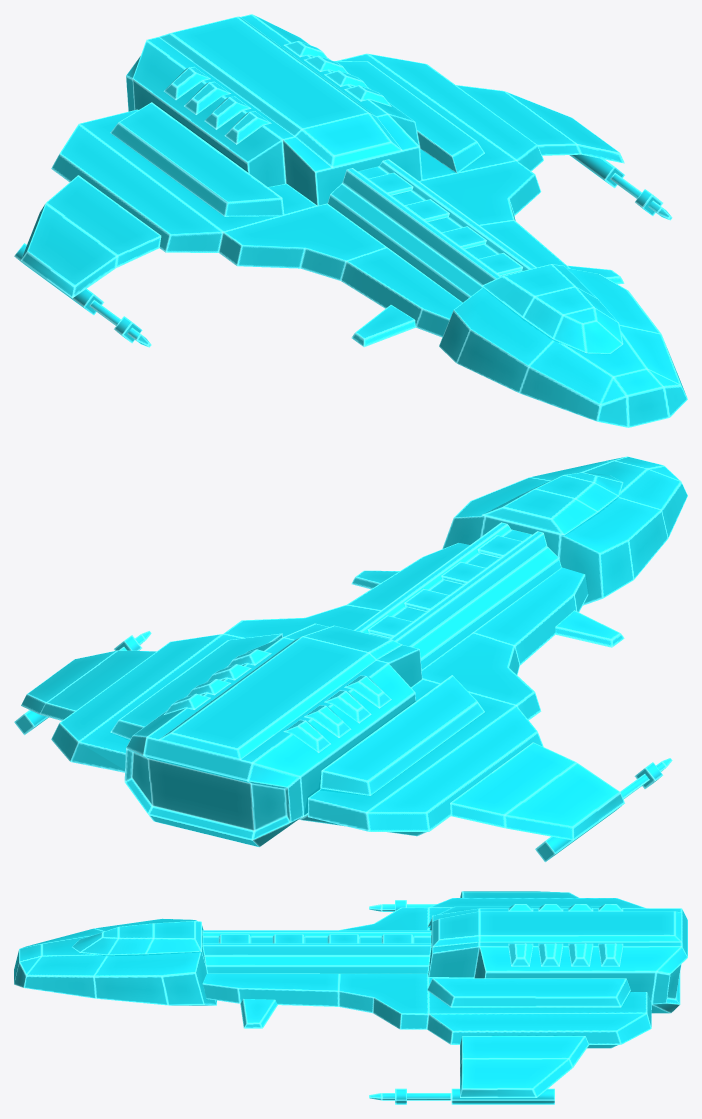
The model's file is ally_battleship.FBX.
3 views of the same model, one above another, from view 1: azimuth 30°, elevation 25°; view 2: azimuth 150°, elevation 25°; view 3: azimuth 270°, elevation 25° (orthographic). The views are drawn at different scales.
Visible parts, largest first — view 1: Battleship_player; view 2: Battleship_player; view 3: Battleship_player.
Part boxes in pixels (left/top/right/bottom): Battleship_player: left=14, top=14, right=687, bottom=427; Battleship_player: left=14, top=456, right=687, bottom=862; Battleship_player: left=14, top=891, right=687, bottom=1104.
Bounding box in the file's own units: 258 × 52.29 × 367.
